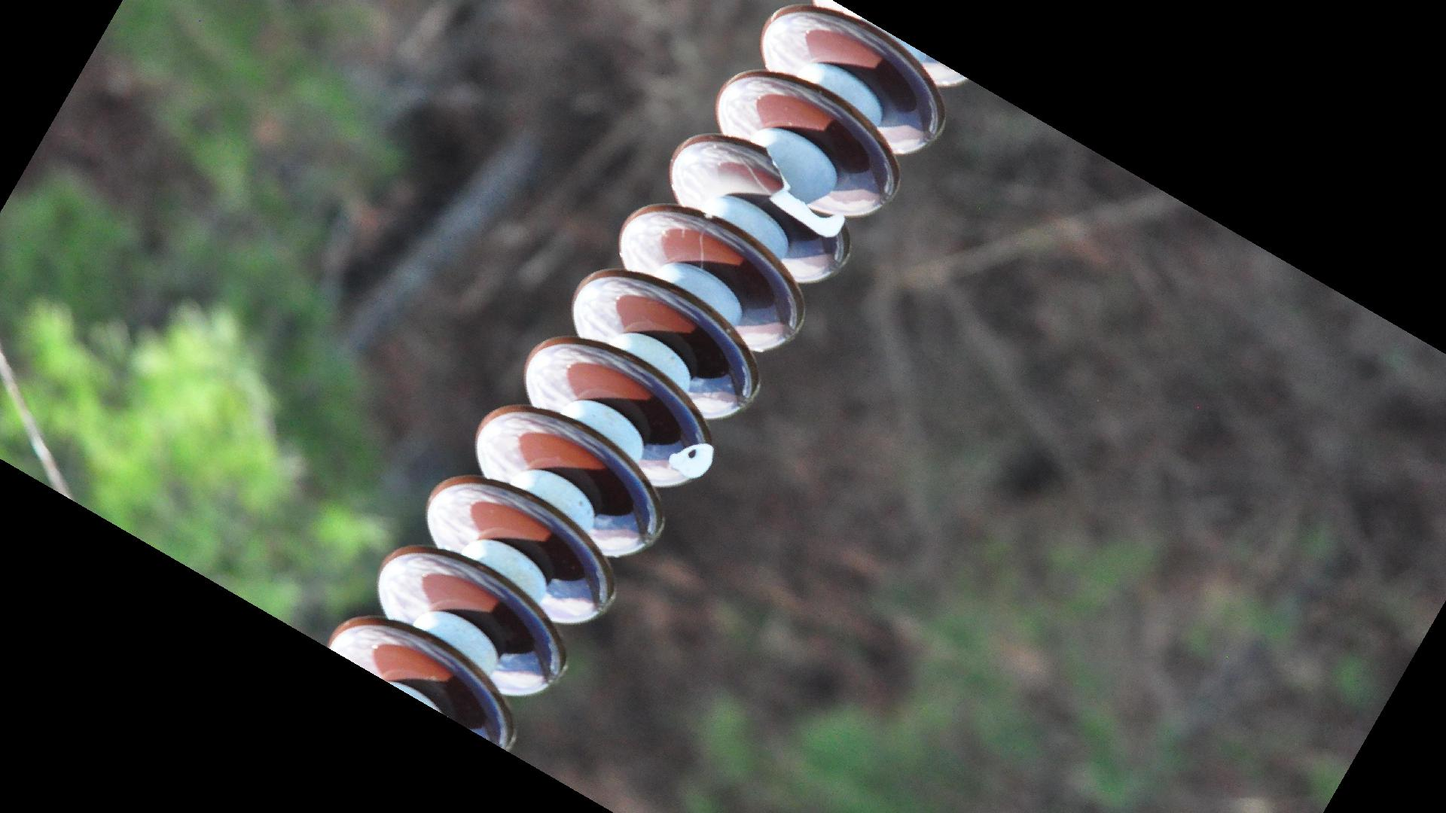insulator: (318, 1, 979, 760)
insulator_breakage: (751, 141, 854, 246), (662, 428, 722, 491)
